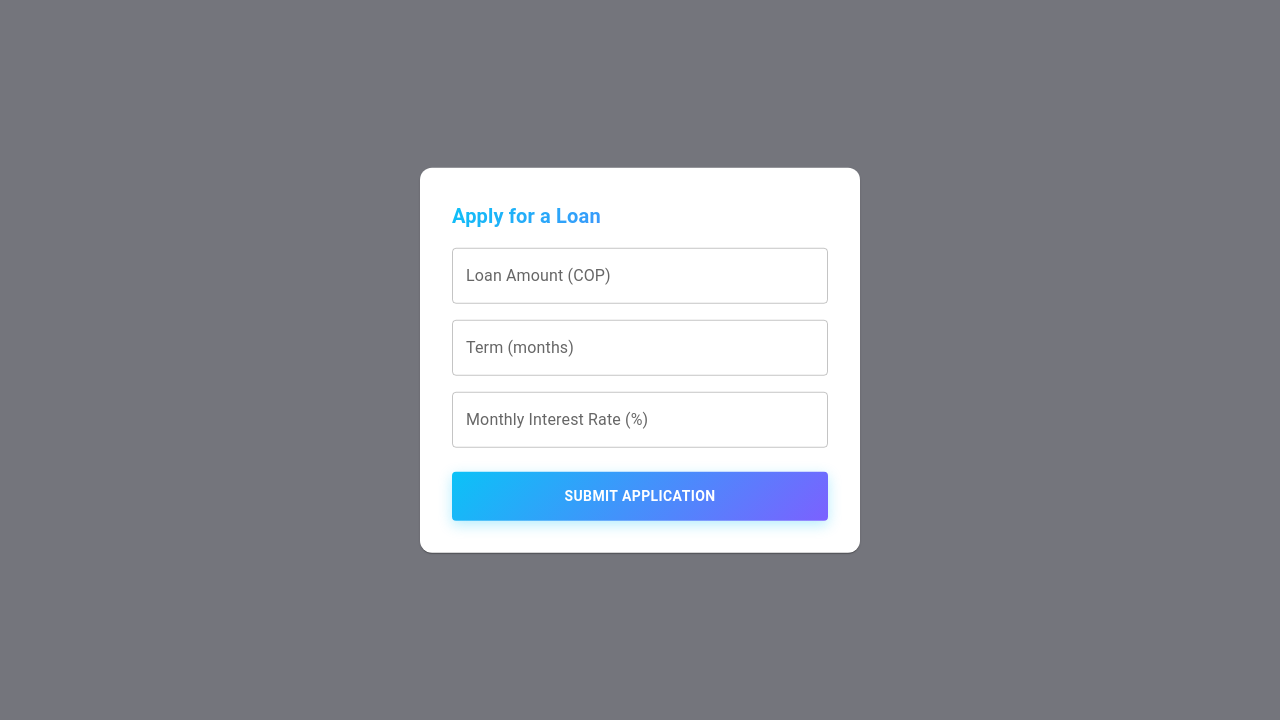
Test: ApplyForLoanModal › shows validation errors when form is submitted empty
The width and height of the screenshot is (1280, 720).
Click the button with test id "apply-for-loan-modal-submit" at (640, 496), box [452, 472, 828, 520]
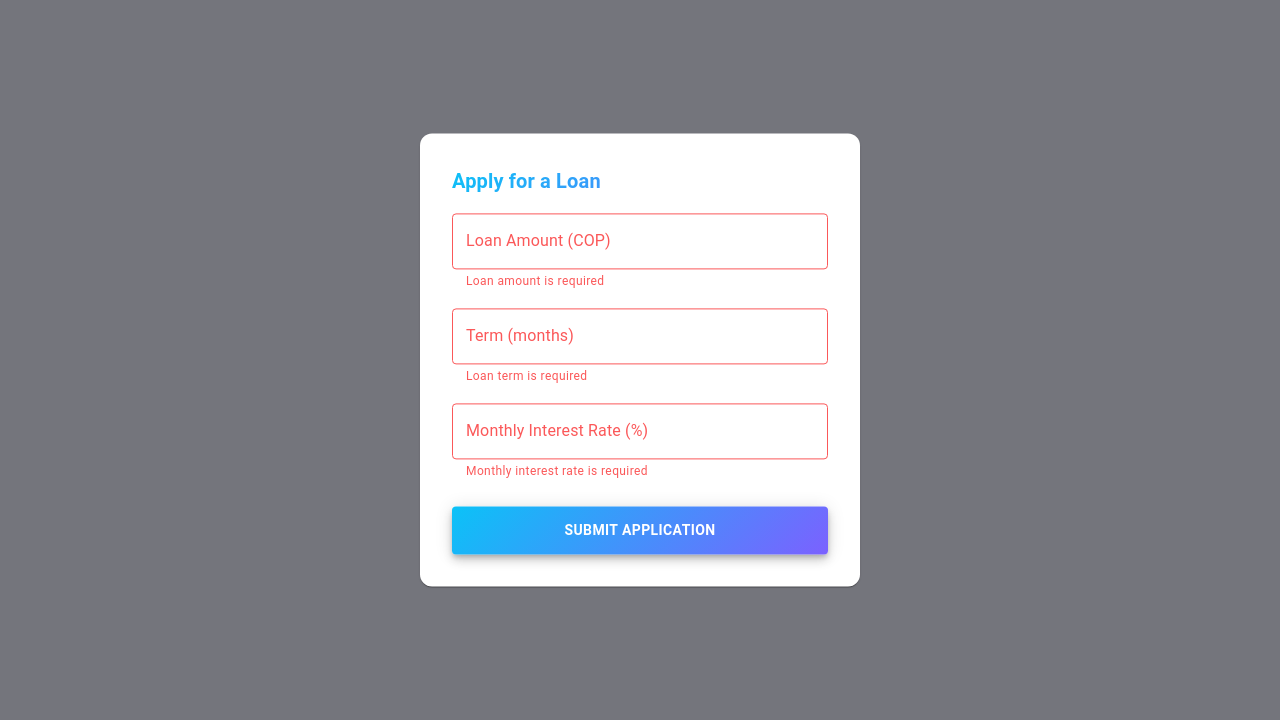
Now the text with test id "apply-for-loan-modal-amount-error" reads "Loan amount is required", box [466, 274, 604, 288]
